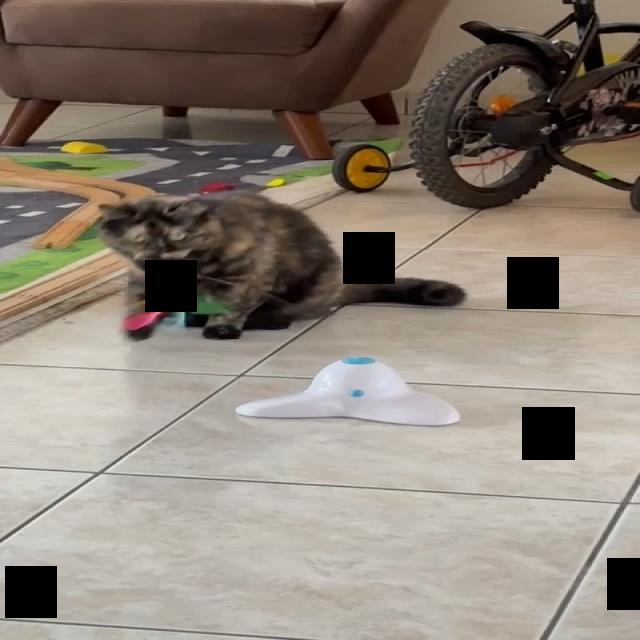authorized: (96, 190, 467, 340)
